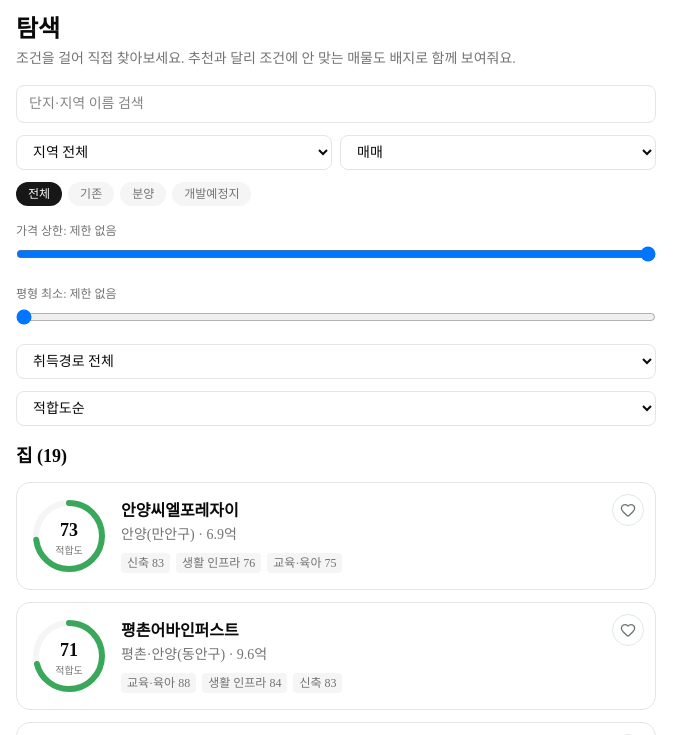
Scenario: ExploreFeature › 결과 카드에서 바로 관심 담기가 스토어에 반영된다
Click the button named "관심 담기" in the row of "안양씨엘포레자이" at x=628, y=510, box [612,494,644,526]
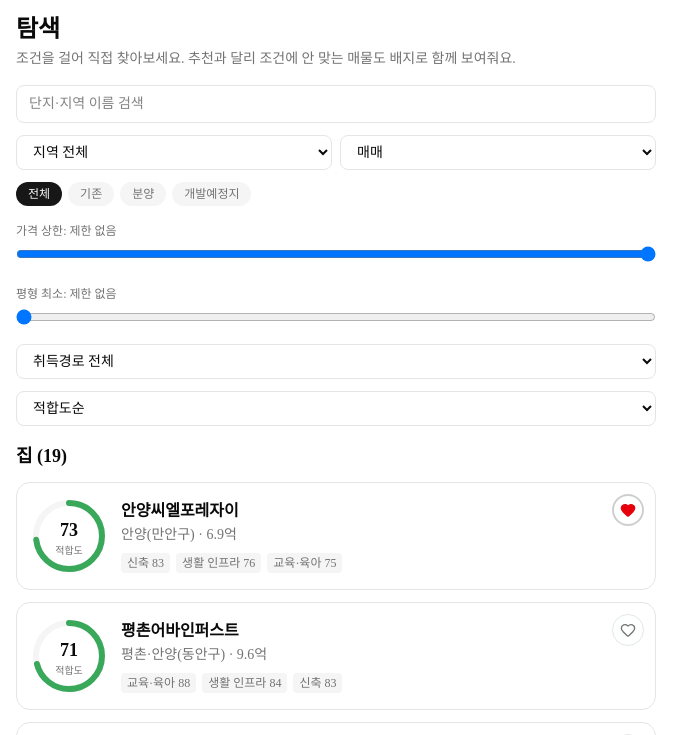
Expected: the button named "관심에서 빼기" is shown, [612,494,644,526]
